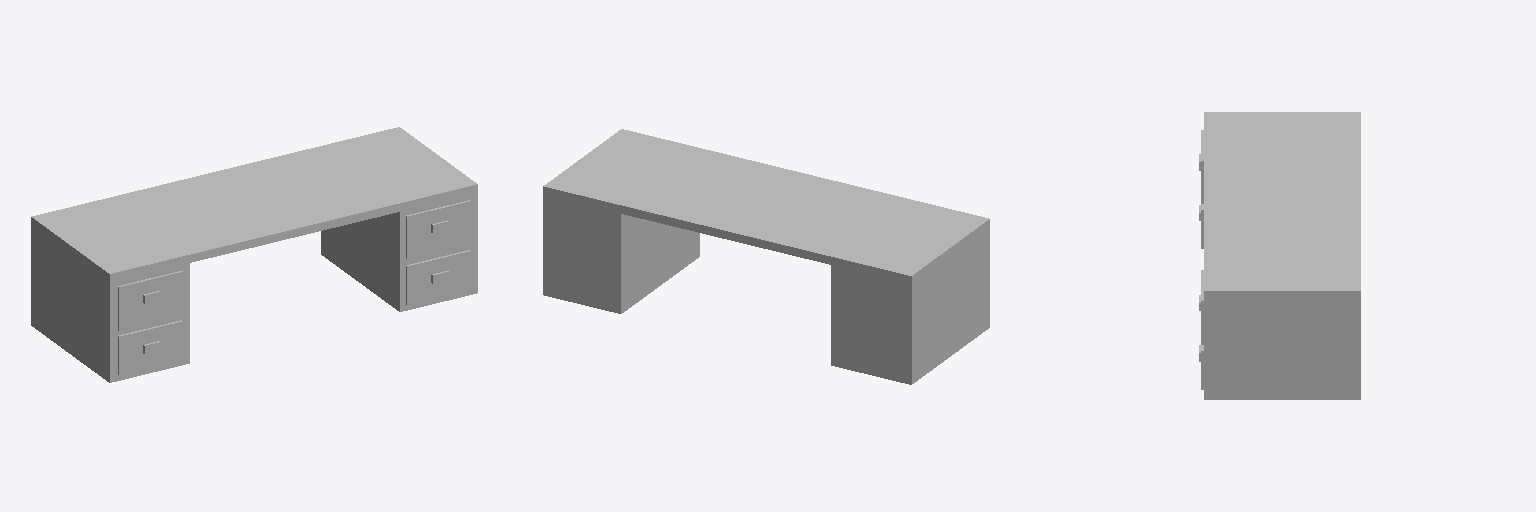
File: Desk.obj
The picture shows the model from 3 angles: view 1: azimuth 30°, elevation 25°; view 2: azimuth 150°, elevation 25°; view 3: azimuth 270°, elevation 25°; orthographic projection.
Visible parts, largest first — view 1: Desk; view 2: Desk; view 3: Desk.
Part boxes in pixels (x1,y1,x2,y2): Desk: (31, 127, 477, 382); Desk: (543, 129, 989, 384); Desk: (1199, 112, 1360, 399).
Size of the model in its own units: 46000 by 13000 by 17600.